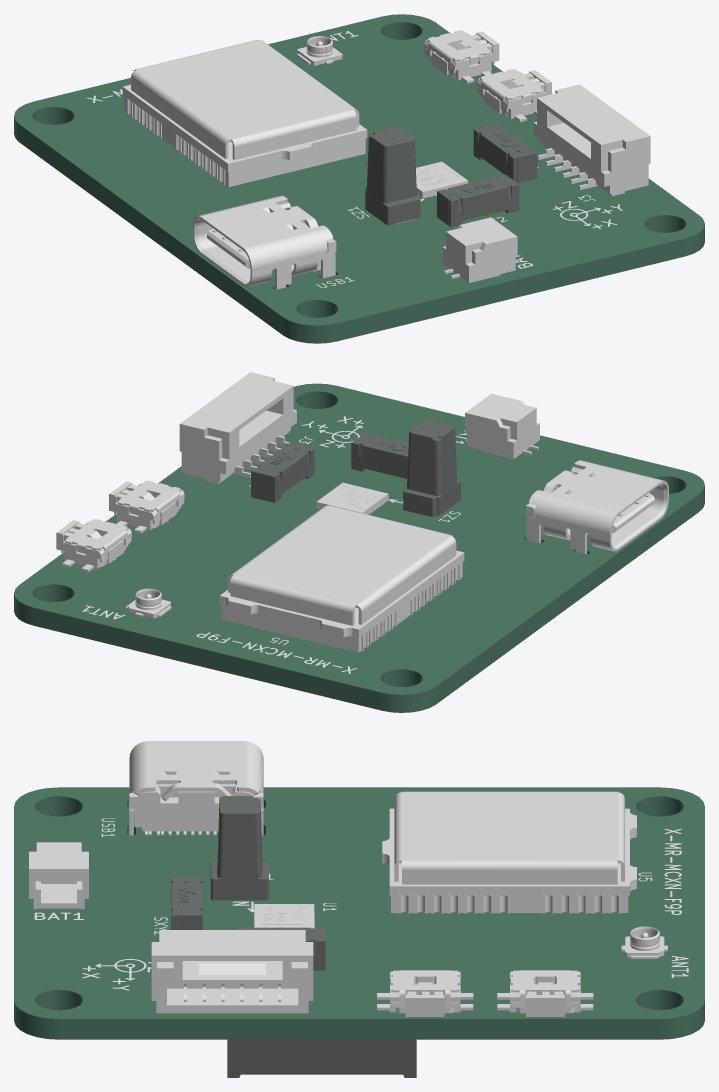
The model's file is 47b58869-rtk_f9p.glb.
3 views of the same model, one above another, from view 1: azimuth 30°, elevation 25°; view 2: azimuth 150°, elevation 25°; view 3: azimuth 270°, elevation 25° (orthographic). The views are drawn at different scales.
Visible parts, largest first — view 1: =>[0:1:1:25], U5, USB1, J3, SZ1, BAT1, SXY2, SW1, SW2, SXY1, U1, ANT1 (+1 smaller); view 2: =>[0:1:1:25], U5, USB1, J3, SZ1, BAT1, SW1, SW2, SXY1, SXY2, U1, =>[0:1:1:23] (+1 smaller); view 3: =>[0:1:1:25], U5, J3, USB1, DF40TC(4.0)-50DS-0.4V, SZ1, BAT1, SW2, SW1, =>[0:1:1:23], SXY2, U1 (+2 smaller).
Boxes of the visible parts, <box> form: =>[0:1:1:25]: <box>14,14,704,343</box>; U5: <box>122,39,367,187</box>; USB1: <box>193,195,336,289</box>; J3: <box>533,84,650,196</box>; SZ1: <box>365,127,420,225</box>; BAT1: <box>442,217,517,282</box>; SXY2: <box>437,174,519,227</box>; SW1: <box>424,30,499,83</box>; SW2: <box>476,69,551,121</box>; SXY1: <box>473,123,537,183</box>; U1: <box>416,161,468,198</box>; ANT1: <box>296,36,342,65</box>; =>[0:1:1:25]: <box>14,383,704,712</box>; U5: <box>219,505,464,652</box>; USB1: <box>526,460,668,554</box>; J3: <box>179,372,296,483</box>; SZ1: <box>403,419,460,517</box>; BAT1: <box>465,393,539,459</box>; SW1: <box>56,519,131,572</box>; SW2: <box>109,480,184,533</box>; SXY1: <box>251,442,314,502</box>; SXY2: <box>351,432,408,478</box>; U1: <box>316,482,388,514</box>; =>[0:1:1:23]: <box>82,416,466,673</box>; =>[0:1:1:25]: <box>14,787,704,1039</box>; U5: <box>382,791,636,913</box>; J3: <box>151,930,313,1013</box>; USB1: <box>129,741,263,835</box>; DF40TC(4.0)-50DS-0.4V: <box>227,1039,416,1077</box>; SZ1: <box>210,796,268,900</box>; BAT1: <box>29,842,88,909</box>; SW2: <box>377,970,473,1016</box>; SW1: <box>497,970,593,1016</box>; =>[0:1:1:23]: <box>34,818,688,990</box>; SXY2: <box>171,877,202,929</box>; U1: <box>254,904,314,928</box>.
Size of the model in its own units: 0.0369 by 0.0119 by 0.046.
